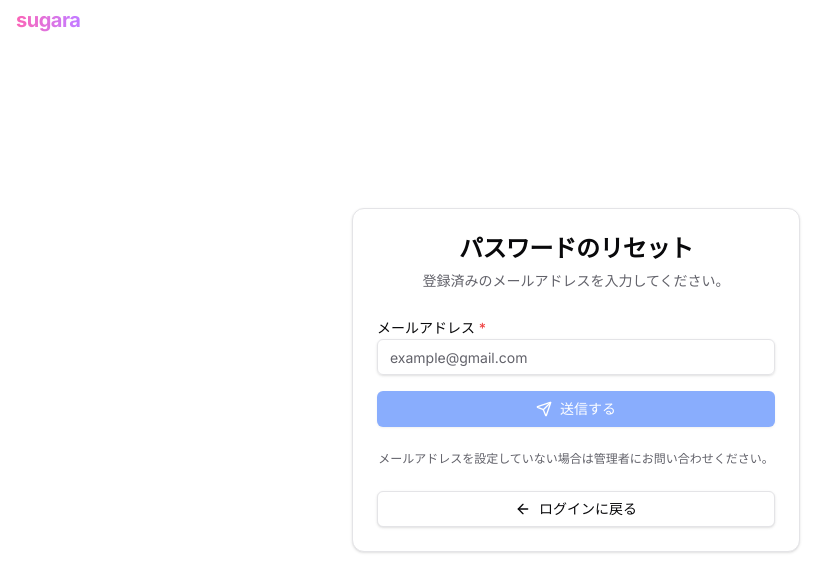
Test: ForgotPasswordPage › 送信後は常に成功メッセージを表示する（メール未登録でも）
Type "test@example.com" into the field labelled "メールアドレス *" at [576, 357], box [377,339,775,375]
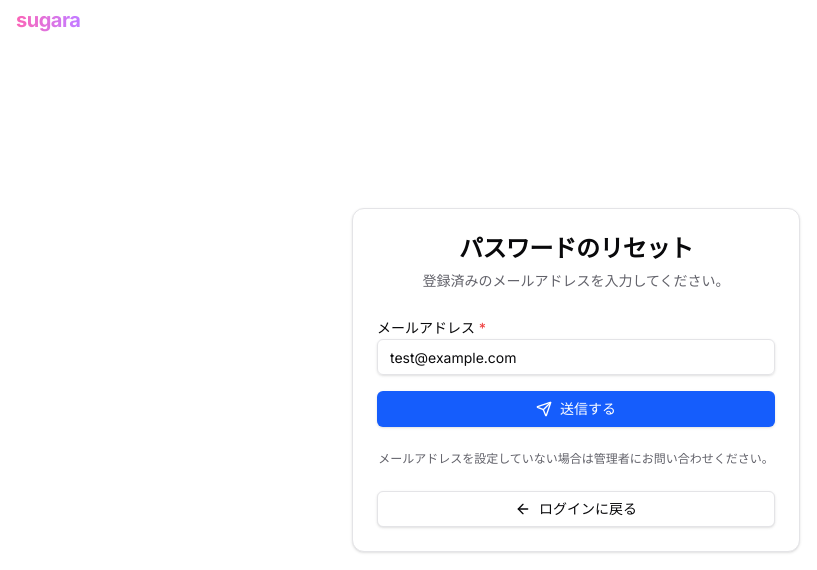
Click the button "送信する" at [576, 409], box [377,391,775,427]
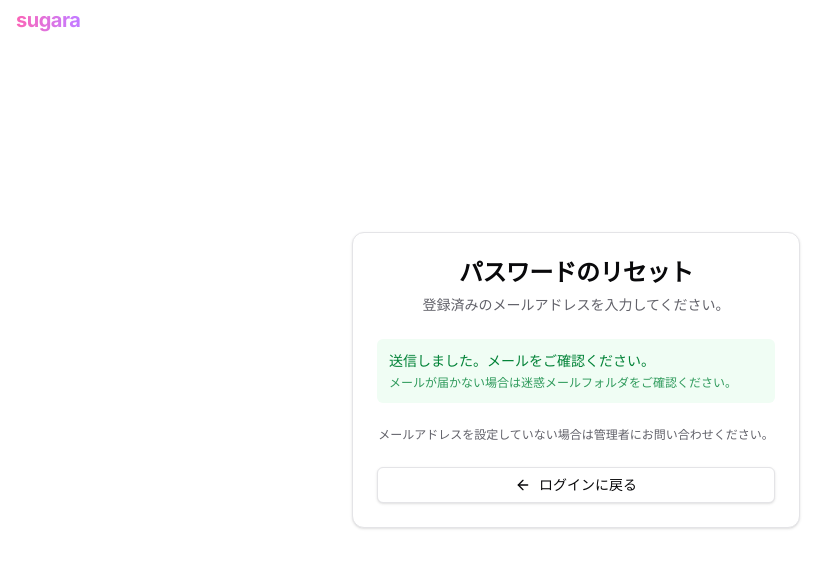
Result: the text "送信しました。メールをご確認ください。" is shown at [389,352,655,369]
